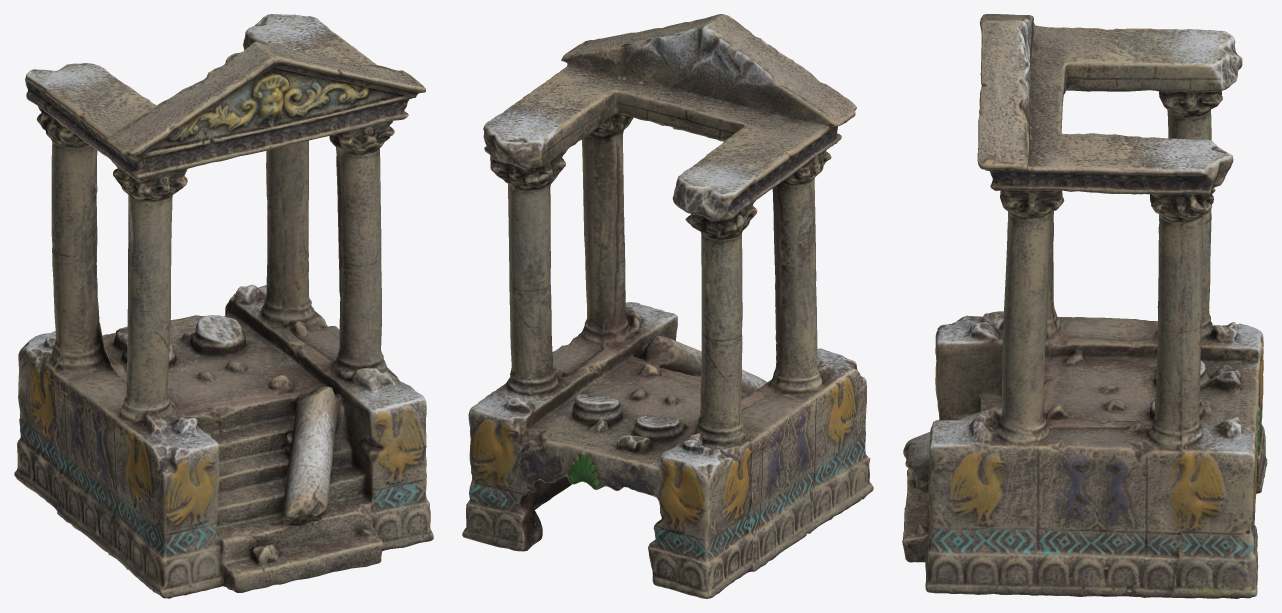
File: temple_ruin.glb
3 renders of one model, left to right at view 1: azimuth 30°, elevation 25°; view 2: azimuth 150°, elevation 25°; view 3: azimuth 270°, elevation 25°, orthographic. The views are drawn at different scales.
Visible parts, largest first — view 1: Object_2; view 2: Object_2; view 3: Object_2.
Part boxes in pixels (left/top/right/bottom): Object_2: left=14, top=14, right=433, bottom=598; Object_2: left=462, top=14, right=873, bottom=598; Object_2: left=902, top=14, right=1267, bottom=598.
Size of the model in its own units: 0.1224 by 0.1951 by 0.1267.
Materials: 1 (1 with a texture image).
